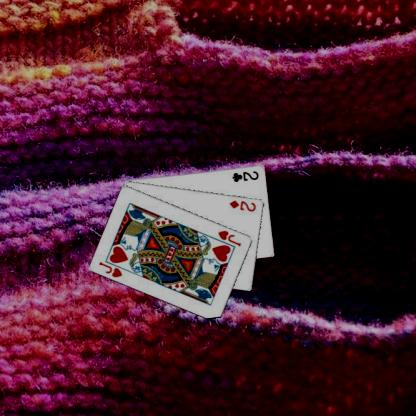2C: (230, 168, 260, 183)
2D: (228, 198, 258, 212)
JH: (96, 258, 124, 278), (216, 228, 243, 248)
